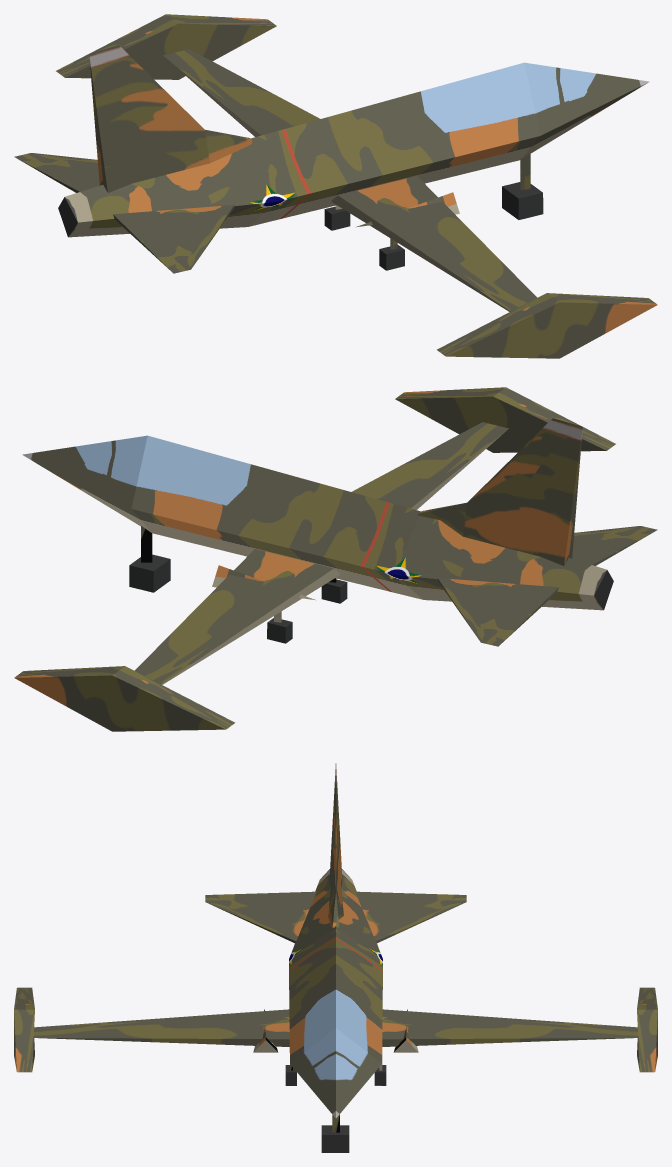
Rendered from CaçaLOD1.fbx.
The picture shows the model from 3 angles, top to bottom: view 1: azimuth 30°, elevation 25°; view 2: azimuth 150°, elevation 25°; view 3: azimuth 270°, elevation 25°; orthographic projection. The views are drawn at different scales.
Parts seen in each view (by area): view 1: aviao caça LOD1.001; view 2: aviao caça LOD1.001; view 3: aviao caça LOD1.001.
Boxes of the visible parts, x1=… form: aviao caça LOD1.001: x1=14, y1=14, x2=657, y2=358; aviao caça LOD1.001: x1=14, y1=387, x2=657, y2=731; aviao caça LOD1.001: x1=14, y1=763, x2=657, y2=1152.
Size of the model in its own units: 740 by 319 by 863.
1 material, 1 textured.
